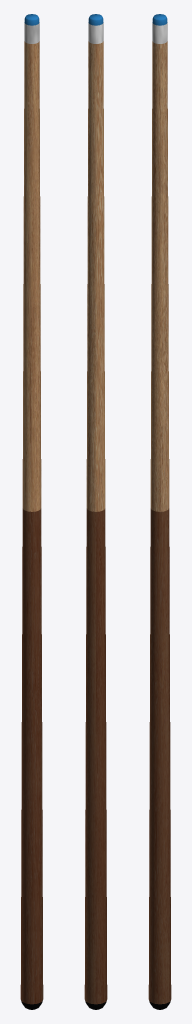
File: Cue_Stick.fbx
The picture shows the model from 3 angles, left to right: view 1: azimuth 90°, elevation 25°; view 2: azimuth 210°, elevation 25°; view 3: azimuth 270°, elevation 25°; orthographic projection.
Parts seen in each view (by area): view 1: Cue Stick; view 2: Cue Stick; view 3: Cue Stick.
Part boxes in pixels (bbox=[...]): Cue Stick: bbox=[20, 14, 43, 1009]; Cue Stick: bbox=[84, 14, 107, 1009]; Cue Stick: bbox=[148, 14, 171, 1009].
Bounding box in the file's own units: 0.03 × 1.46 × 0.03.
Materials: 5 (5 with a texture image).
